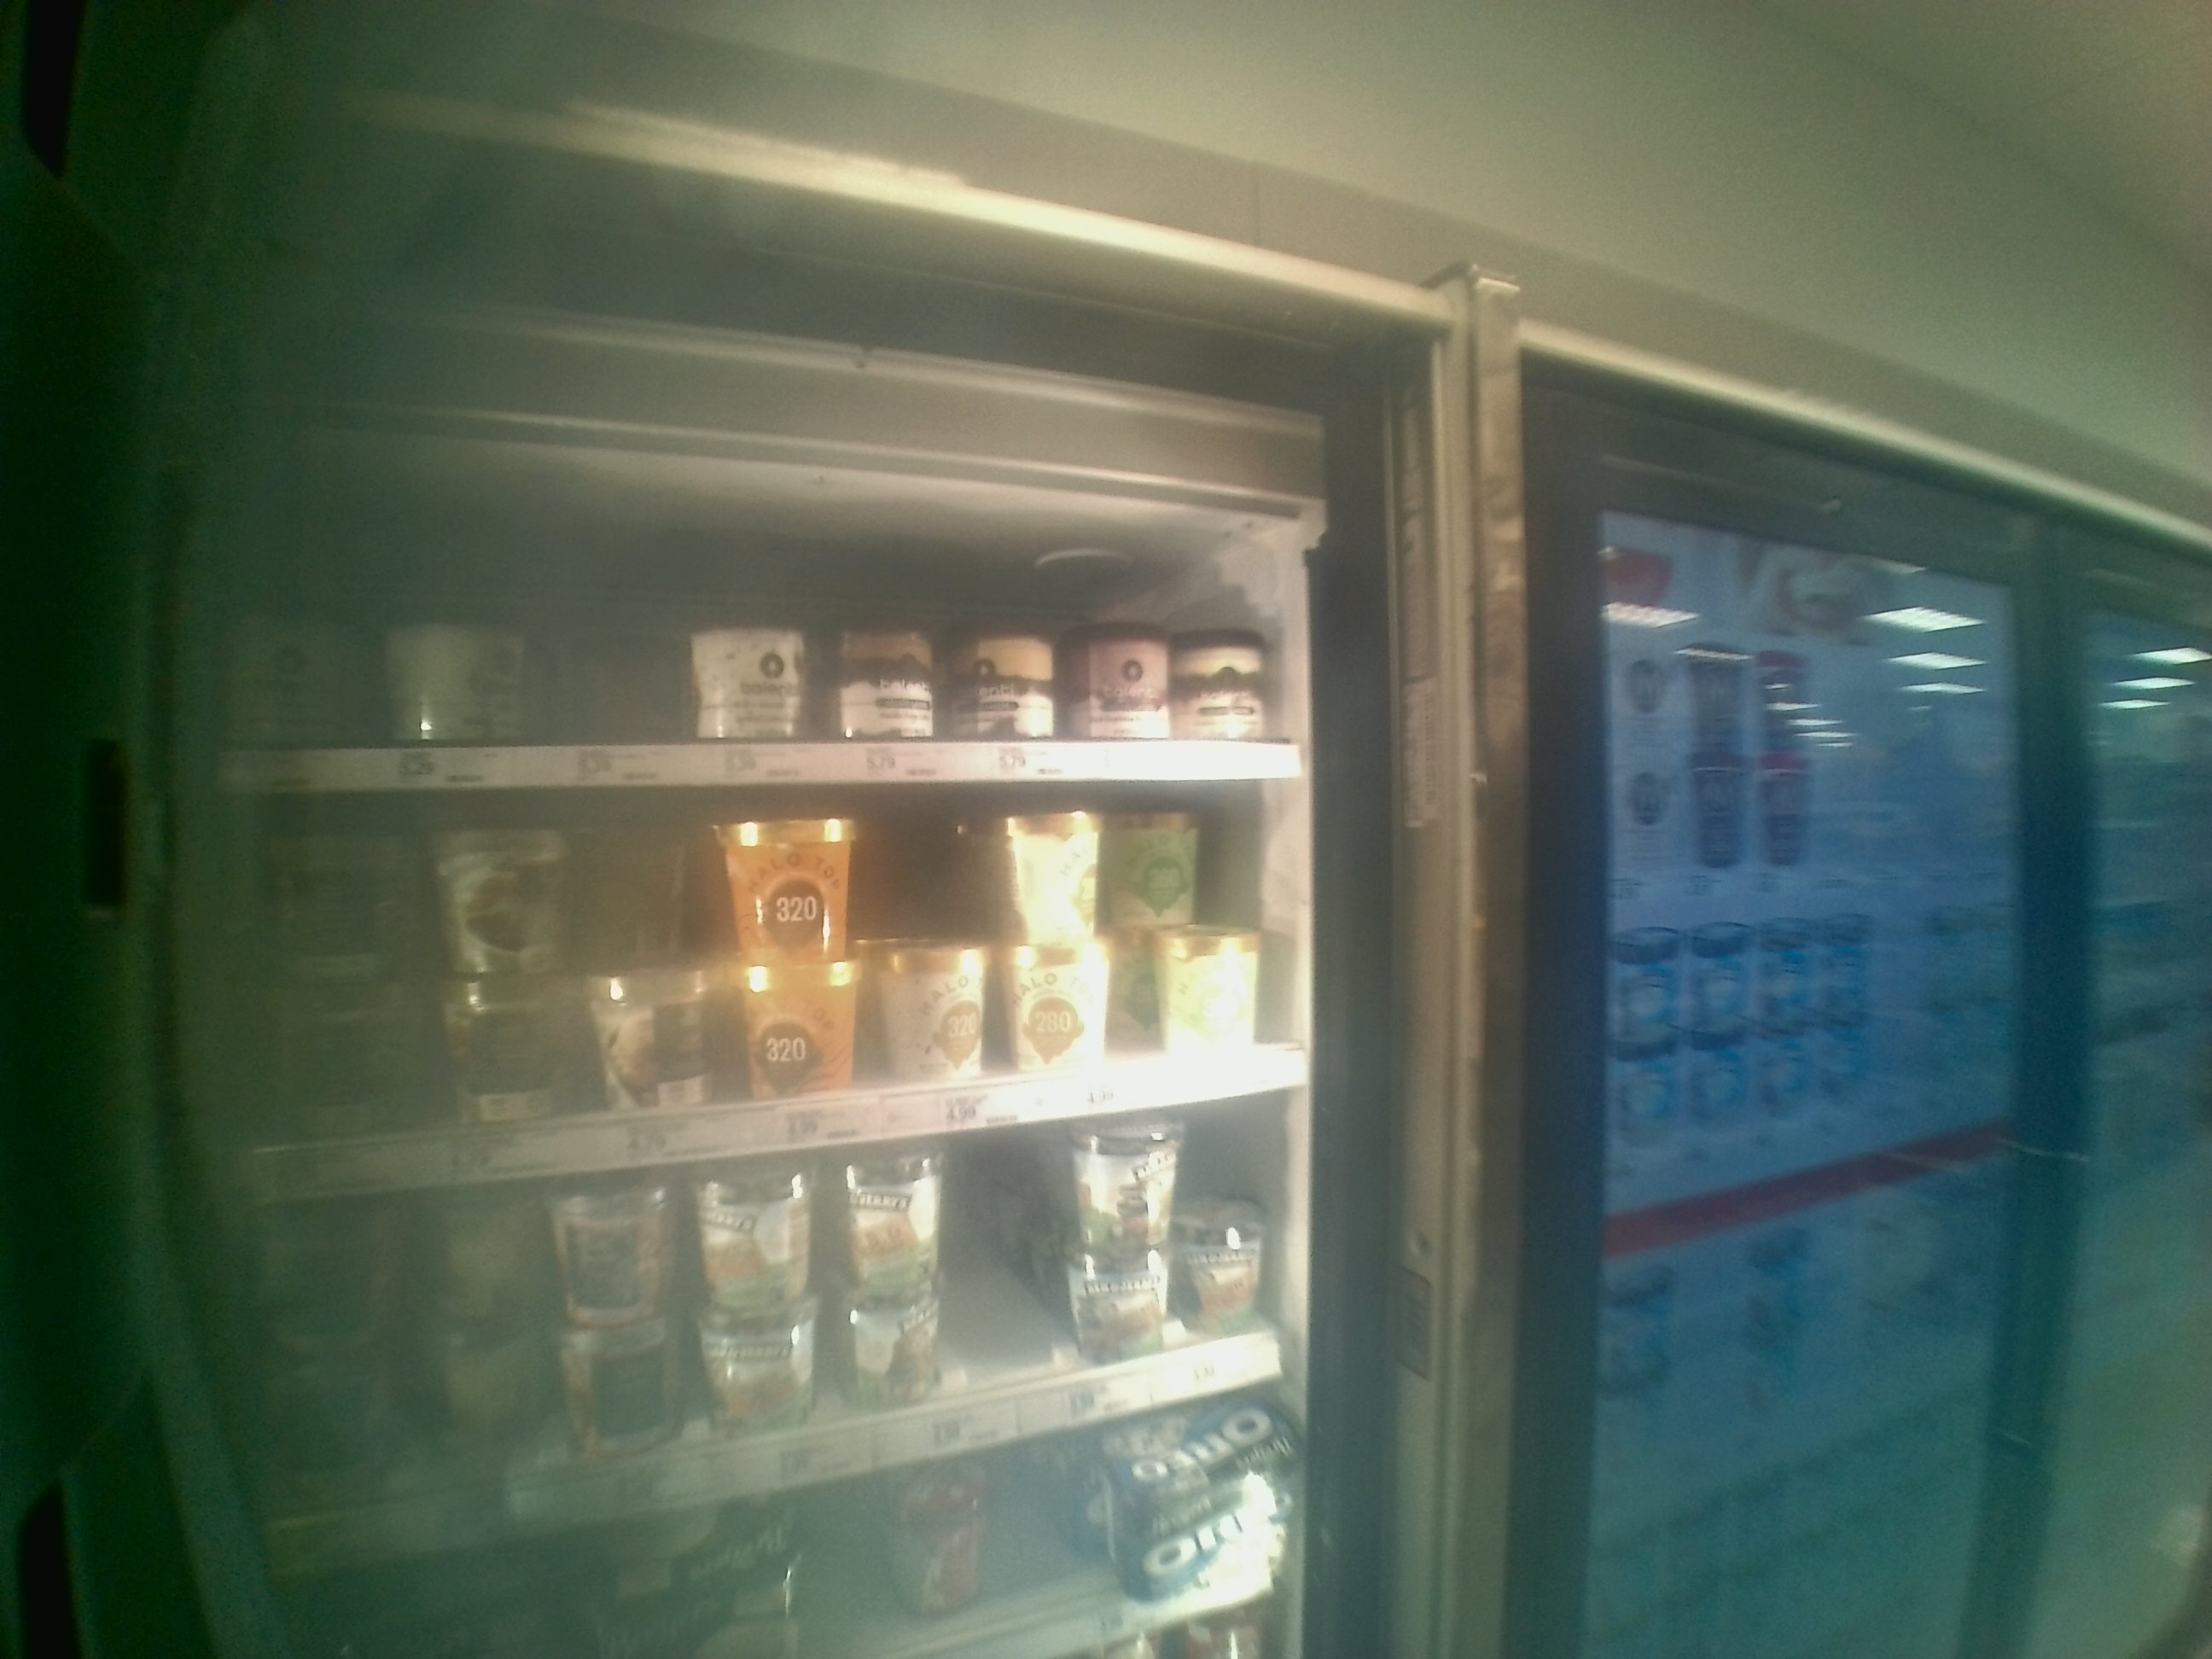shelf: (221, 784, 1315, 1199), (225, 453, 1313, 782)
